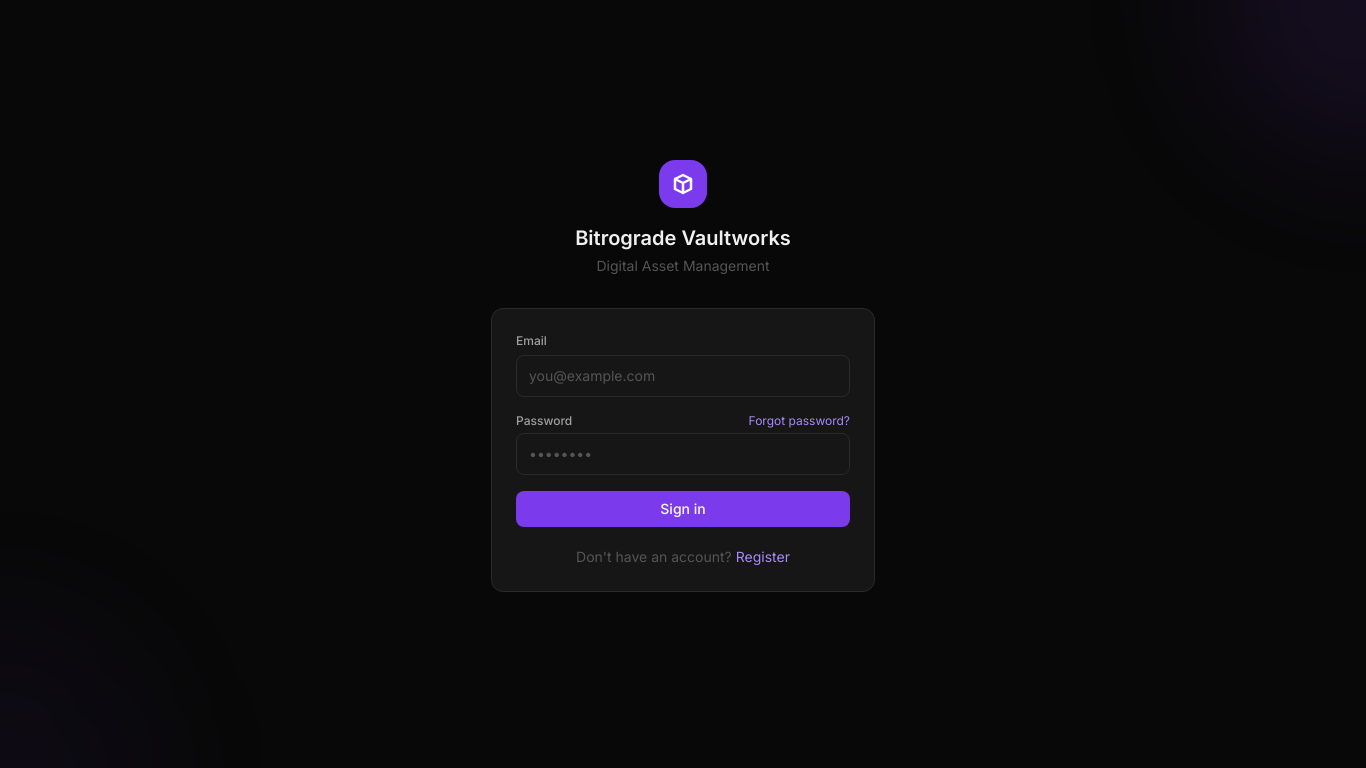
Test: LoginPage › switches to register mode when Register is clicked
This screenshot has width=1366, height=768.
Click the button "Register": point(763, 557) [736,547,790,567]
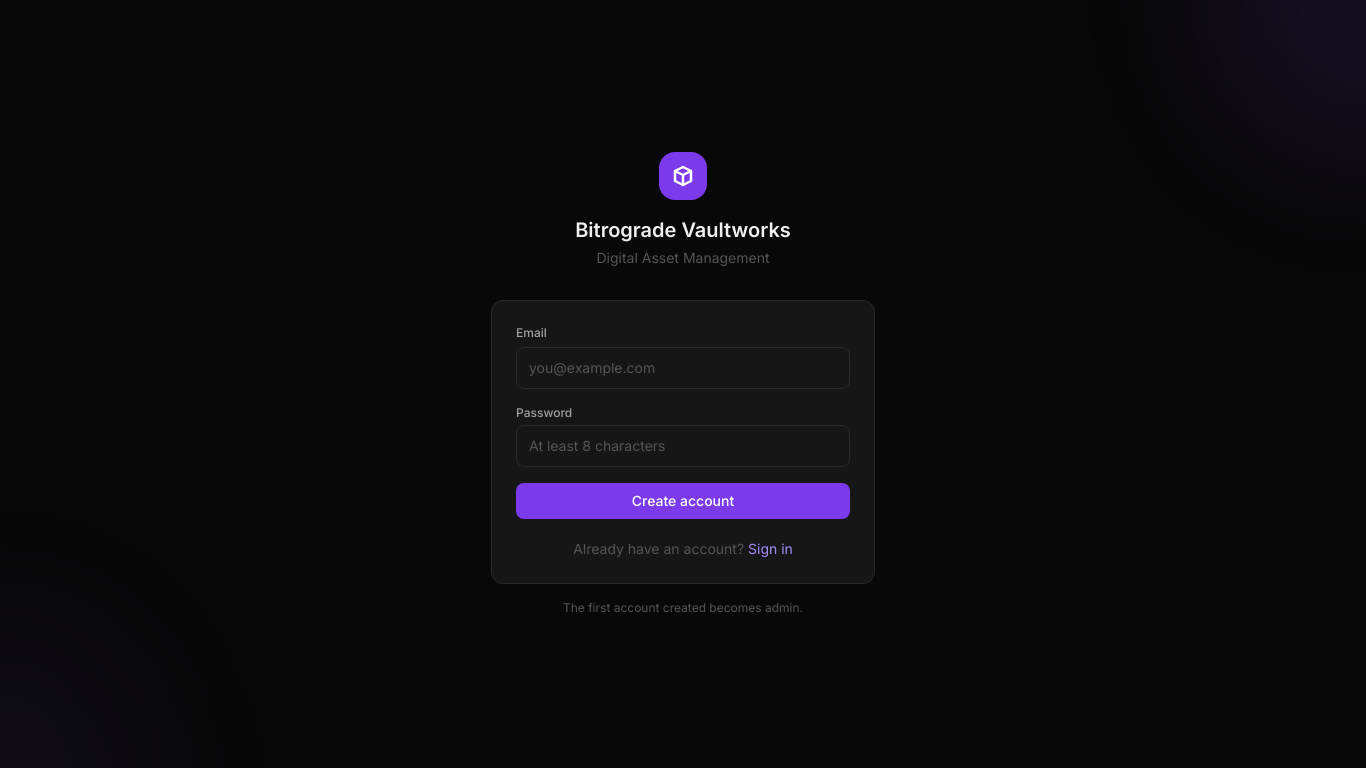
Check: the button "Create account" is shown, box [516,483,850,519]
